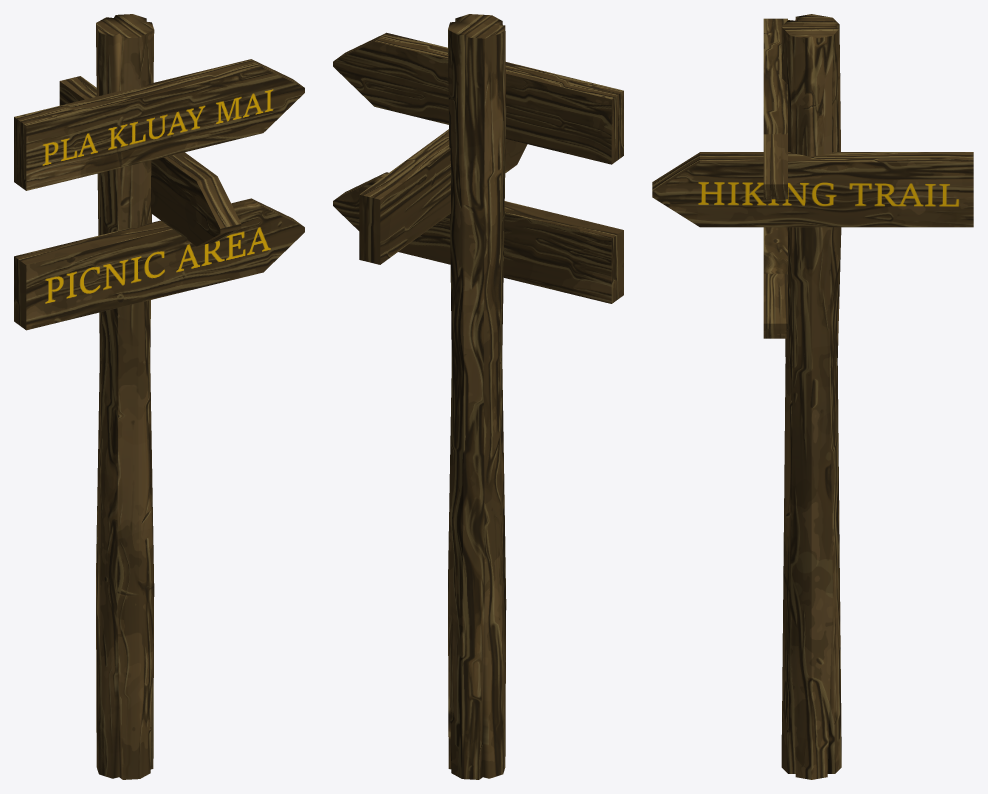
Rendered from PhaiCamp.fbx.
3 renders of one model, left to right at view 1: azimuth 30°, elevation 25°; view 2: azimuth 150°, elevation 25°; view 3: azimuth 270°, elevation 25°, orthographic.
Visible parts, largest first — view 1: PhaiCamp; view 2: PhaiCamp; view 3: PhaiCamp.
Boxes of the visible parts, box(x1,y1,x2,y2) form: PhaiCamp: box(14, 14, 304, 779); PhaiCamp: box(333, 14, 623, 779); PhaiCamp: box(652, 14, 973, 779).
Bounding box in the file's own units: 3.41 × 8.66 × 3.41.
